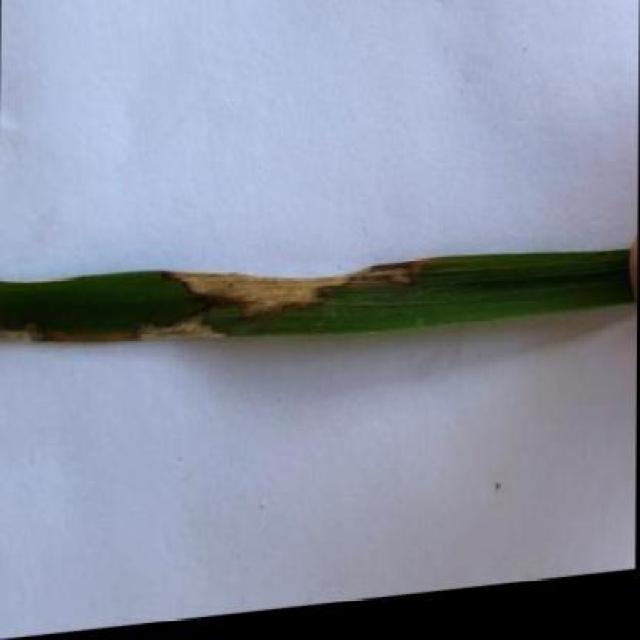Brown_Spot: (0, 217, 628, 385)
